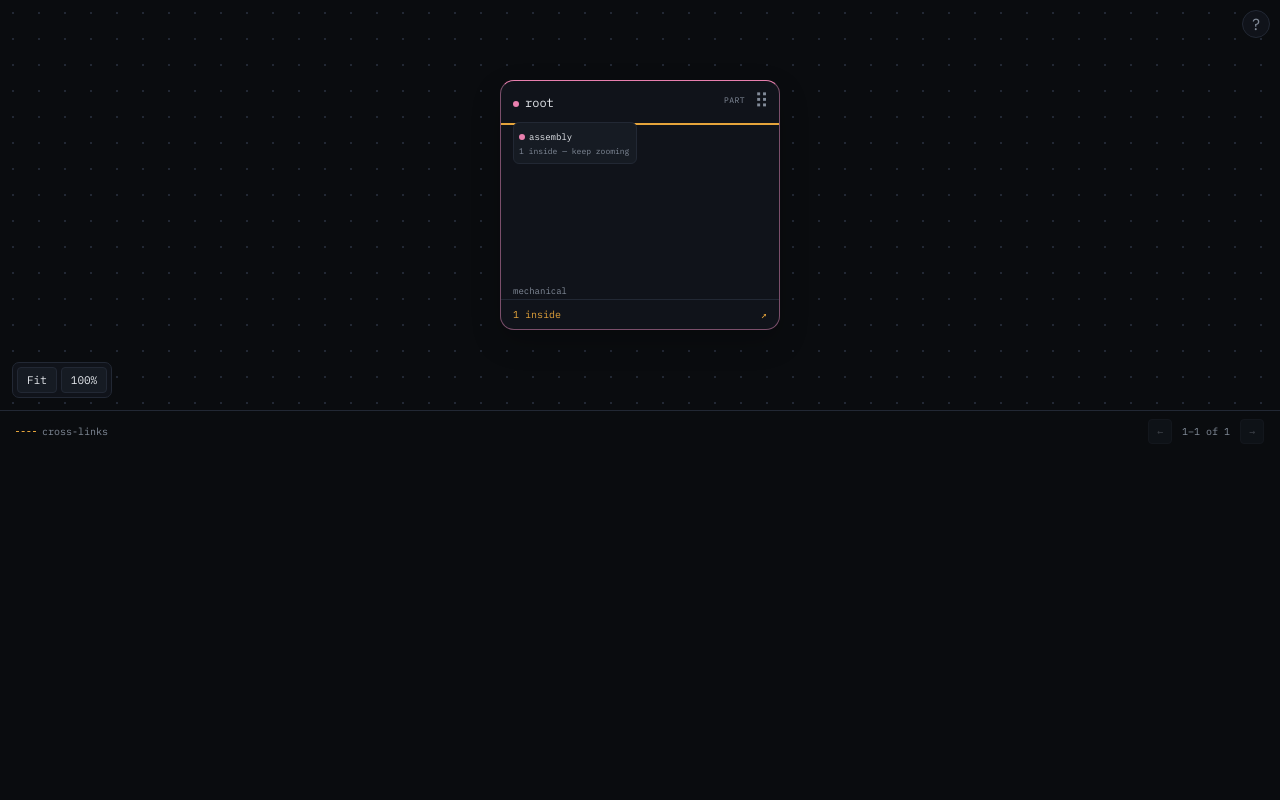
Test: GraphNavigator › shows Help top-right and closes it on Escape or an outside click without leaving the level
Double-click the button "root part" at (516, 104), box [501, 81, 779, 120]
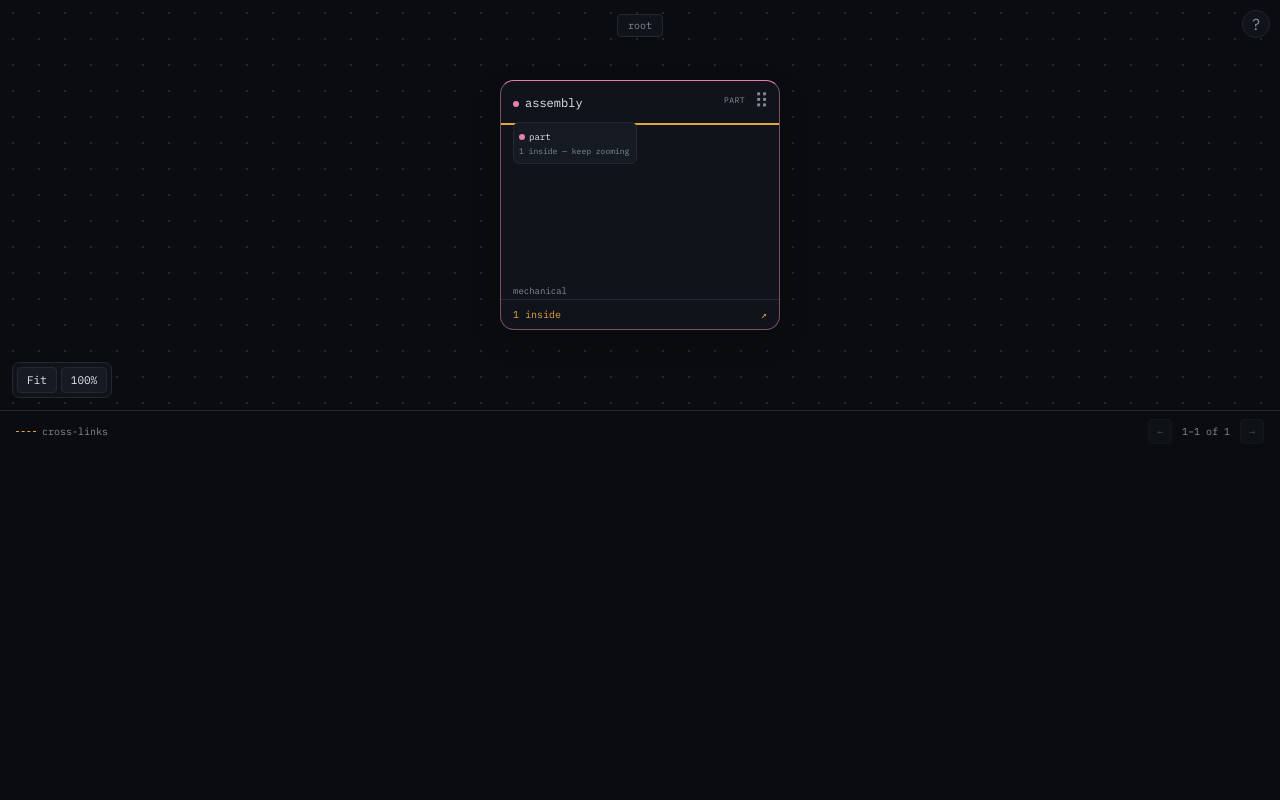
Expected: the button with aria-label "Back to root" is shown, [617, 14, 663, 37]
Click the button named "Help". click: (1256, 24)
box: [1242, 10, 1270, 38]
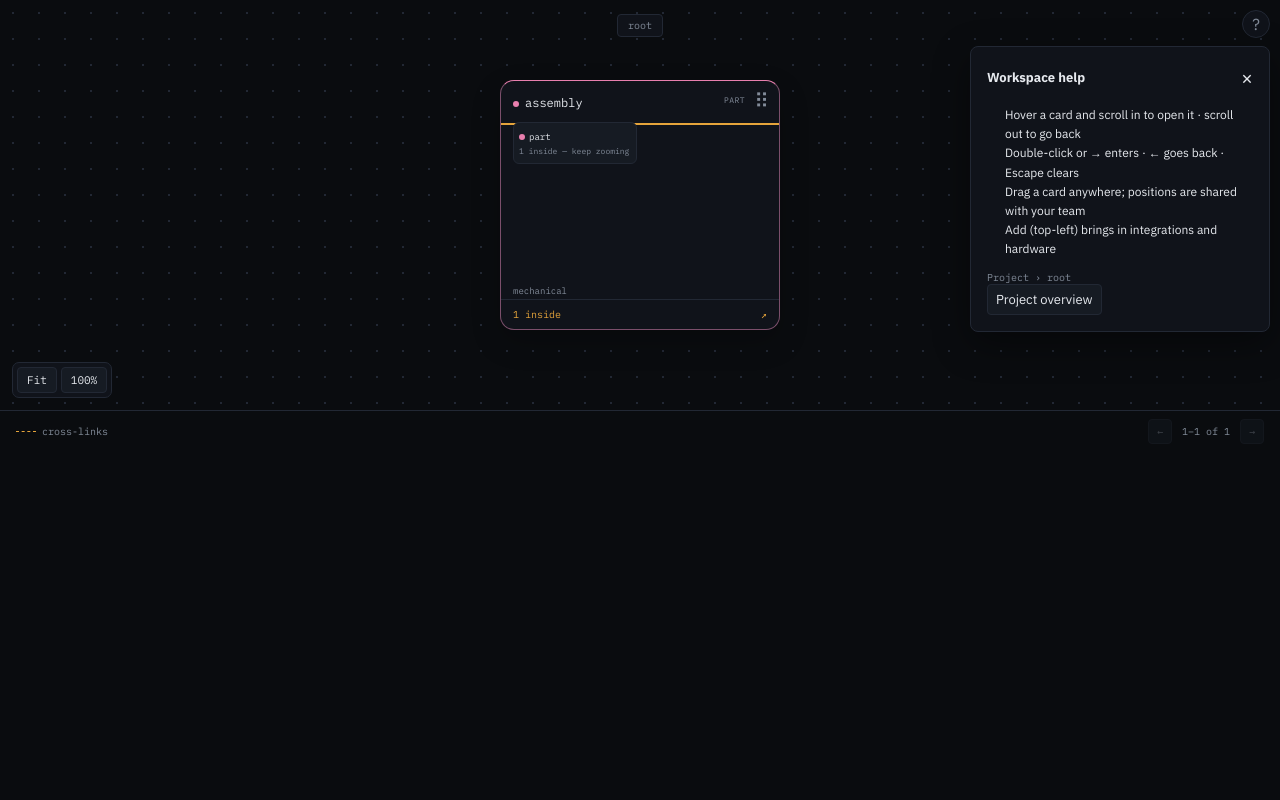
Press Escape
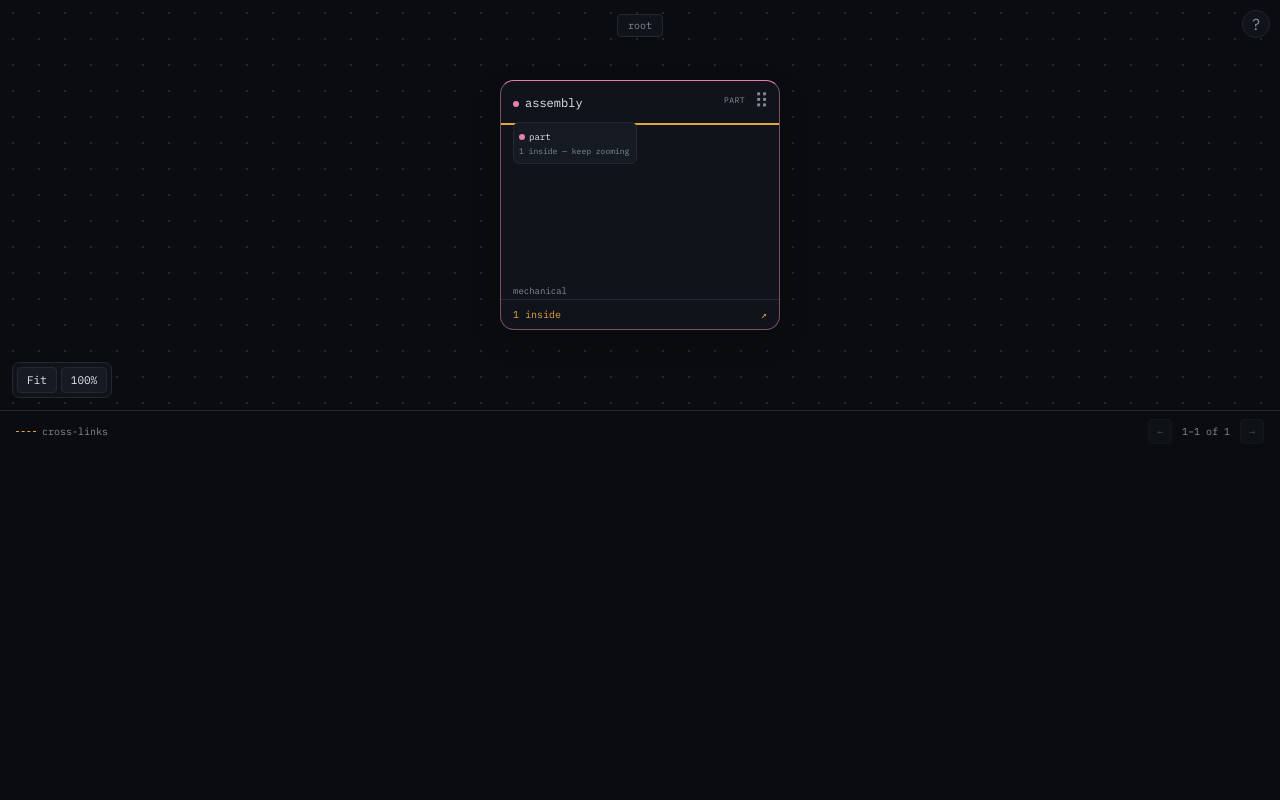
Now the dialog is gone
Click the button named "Help". click: (1256, 24)
box: [1242, 10, 1270, 38]
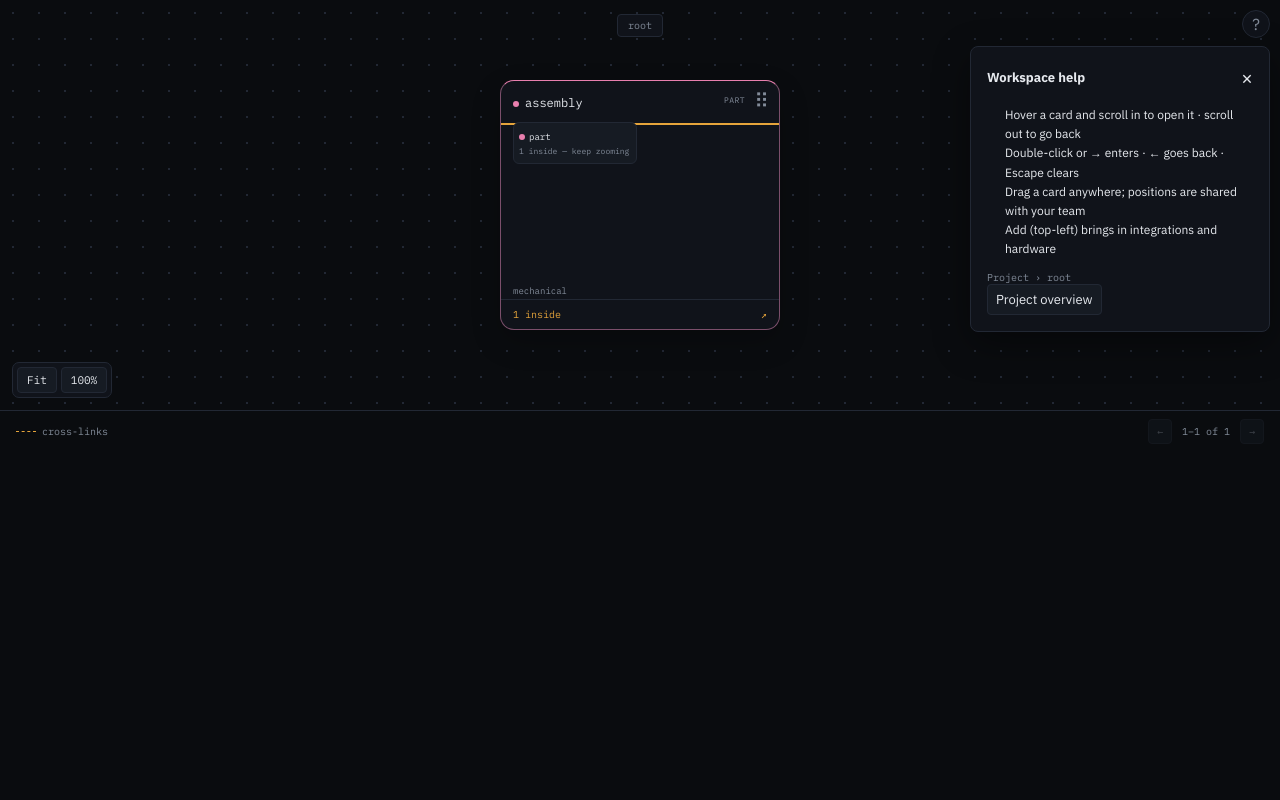
Press the mouse on the element that starts with "assembly" at (640, 205), box [500, 80, 780, 330]
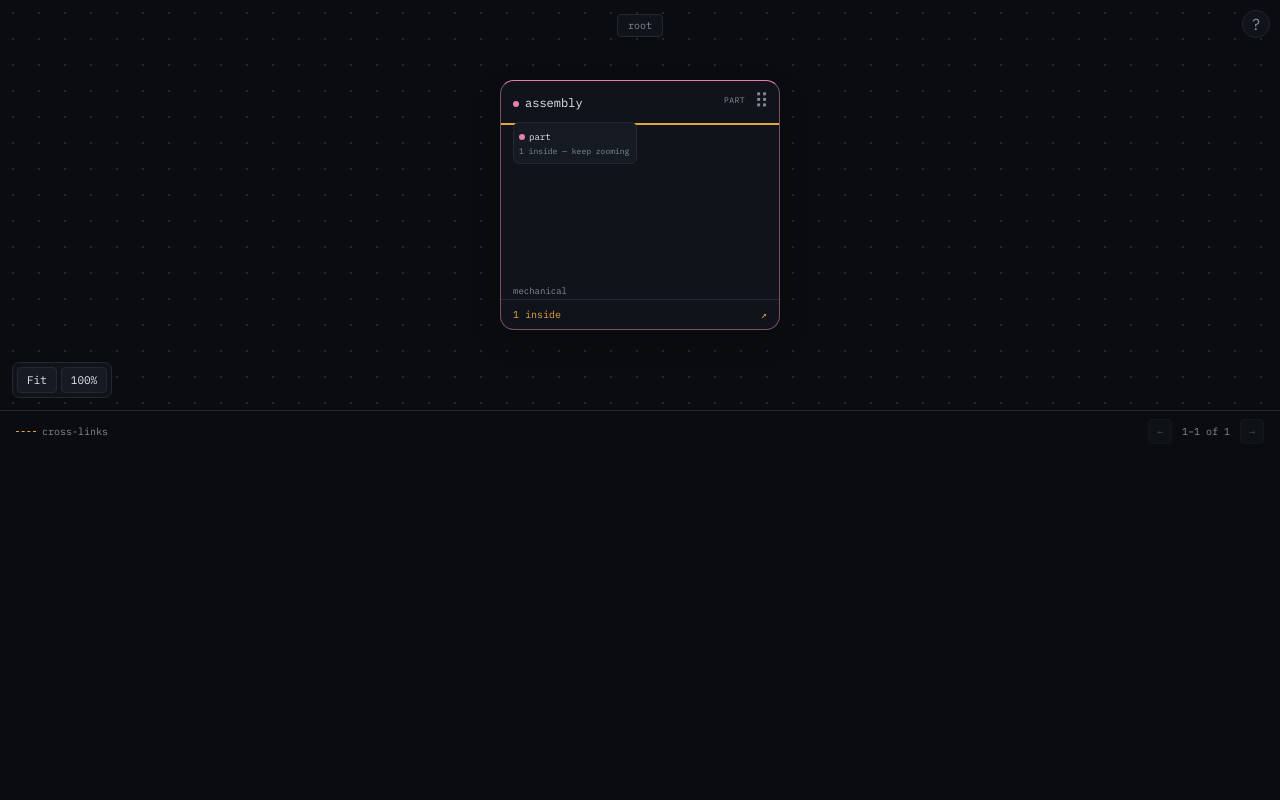
Now the dialog is gone
